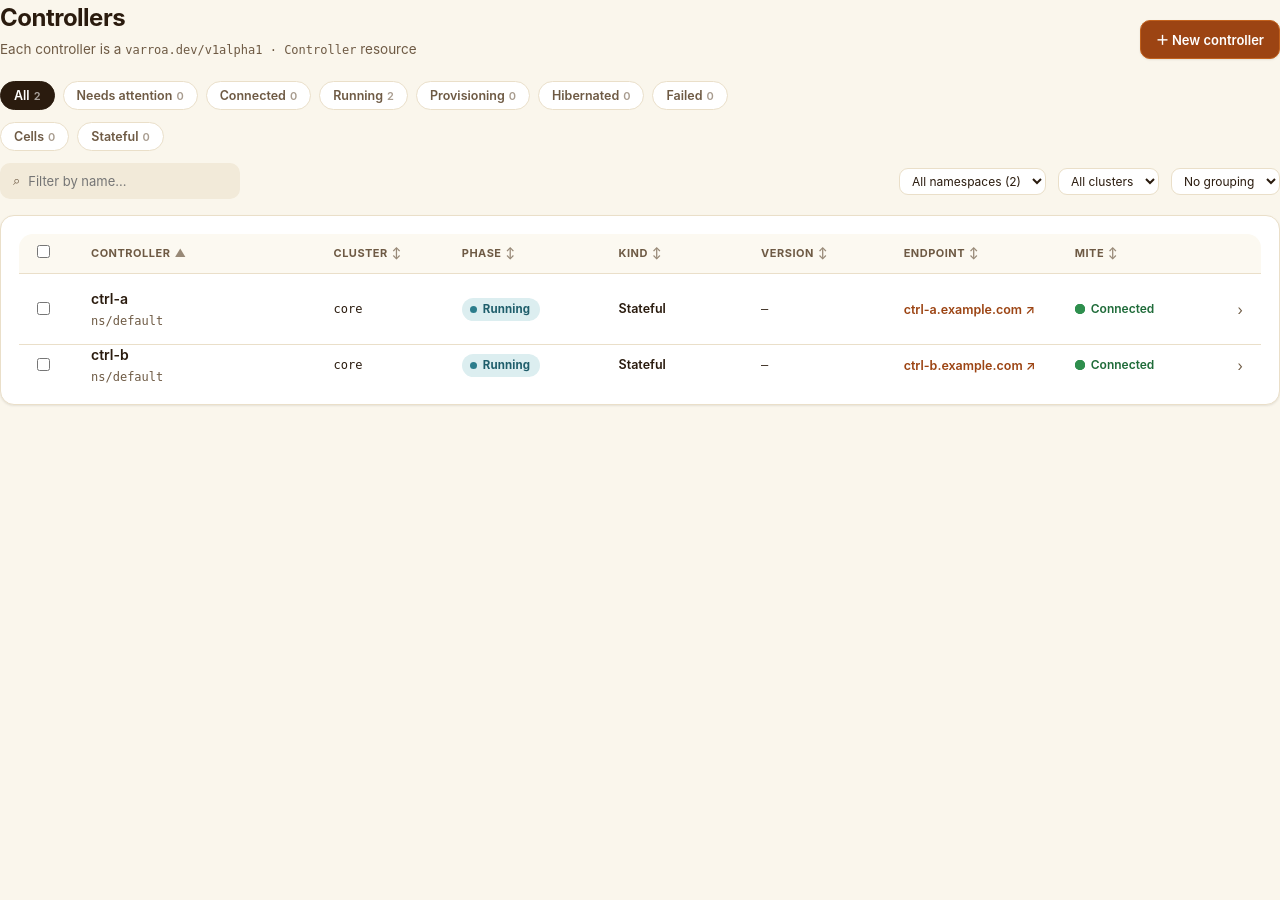
Test: Controllers › Run operation flow › creates the run and navigates to its detail page
Click the 2nd checkbox at x=44, y=308, box [37, 302, 50, 315]
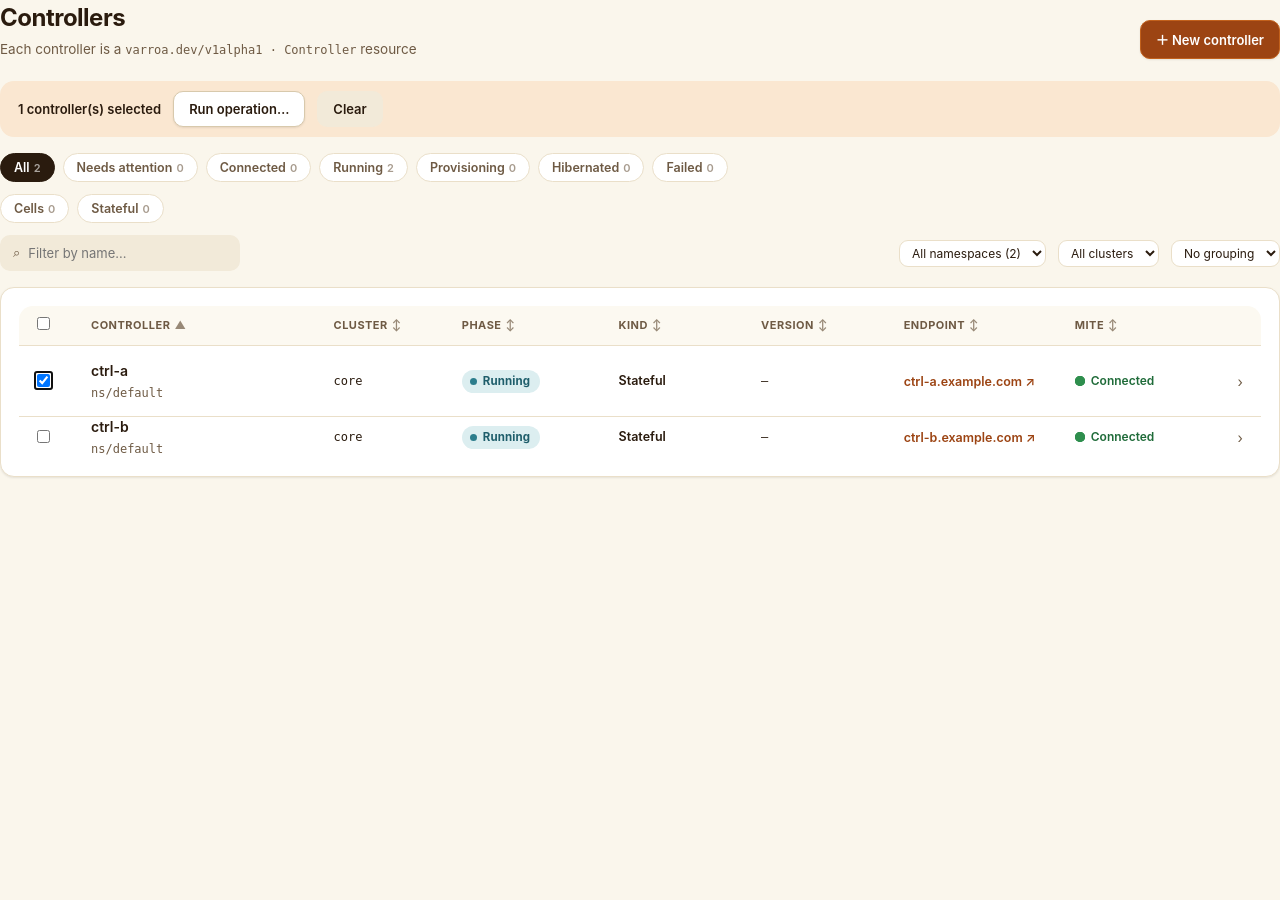
Click the 3rd checkbox at x=44, y=436, box [37, 430, 50, 443]
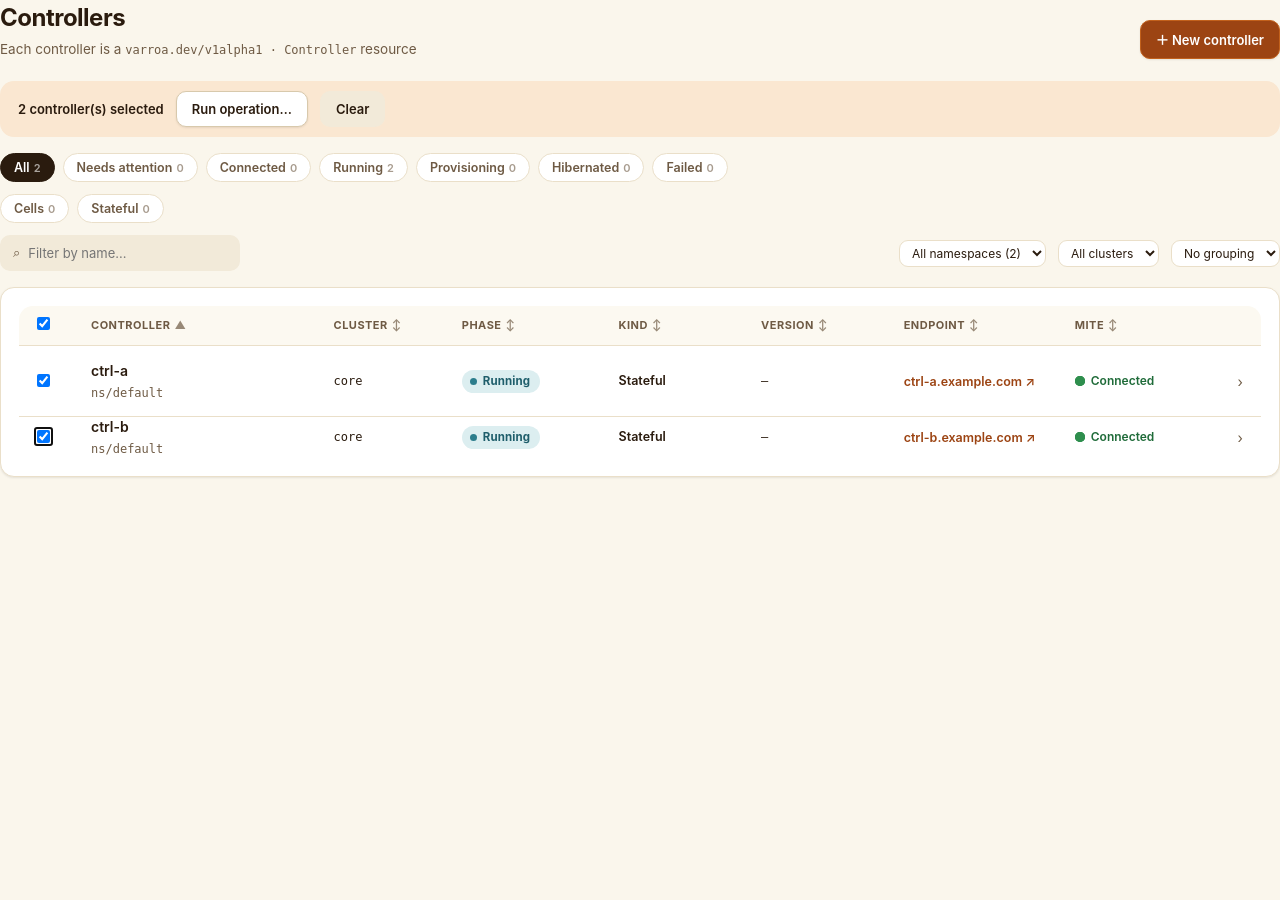
Click the button "Run operation…" at x=242, y=109, box [176, 91, 308, 127]
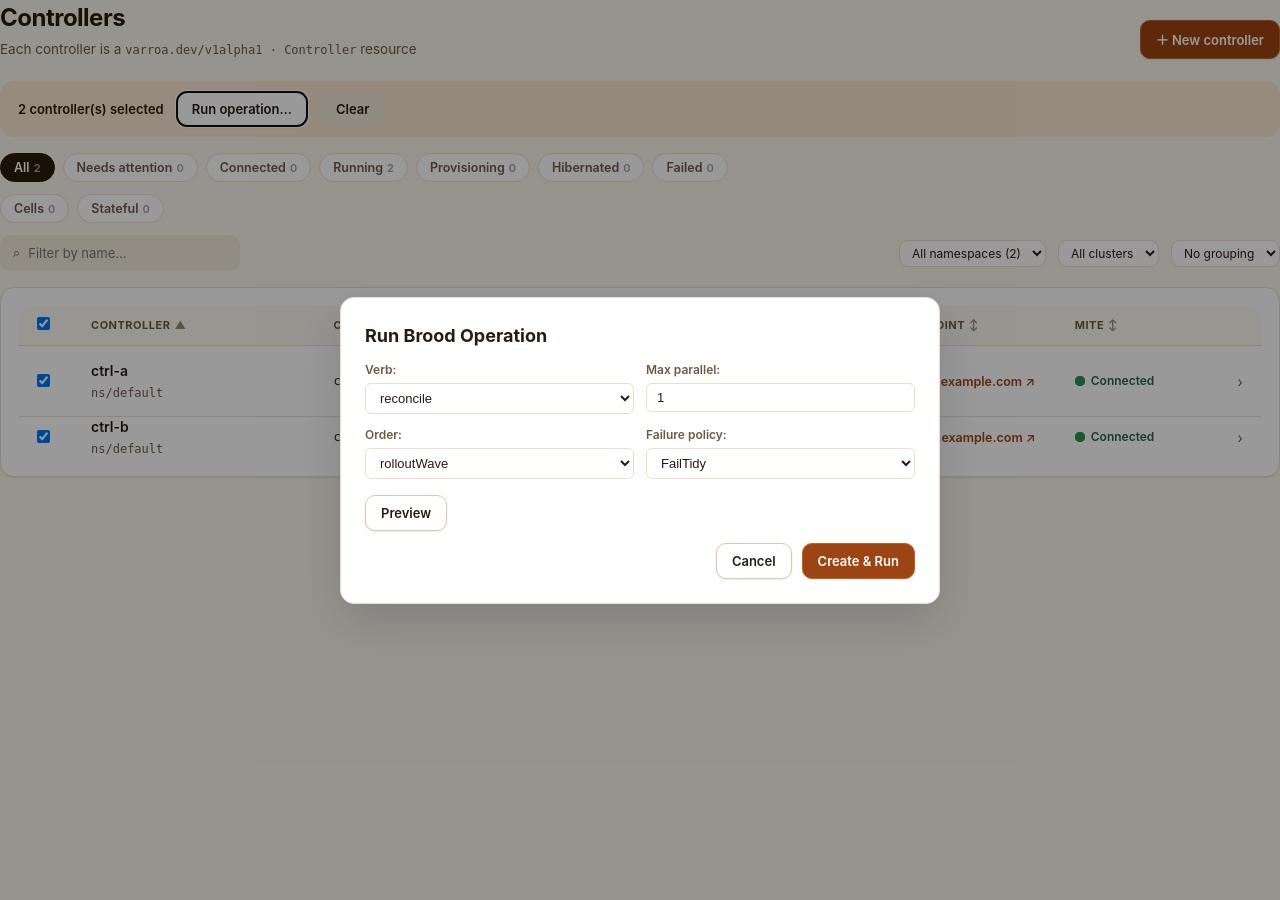
Click the button "Create & Run" at x=858, y=560, box [802, 542, 915, 578]
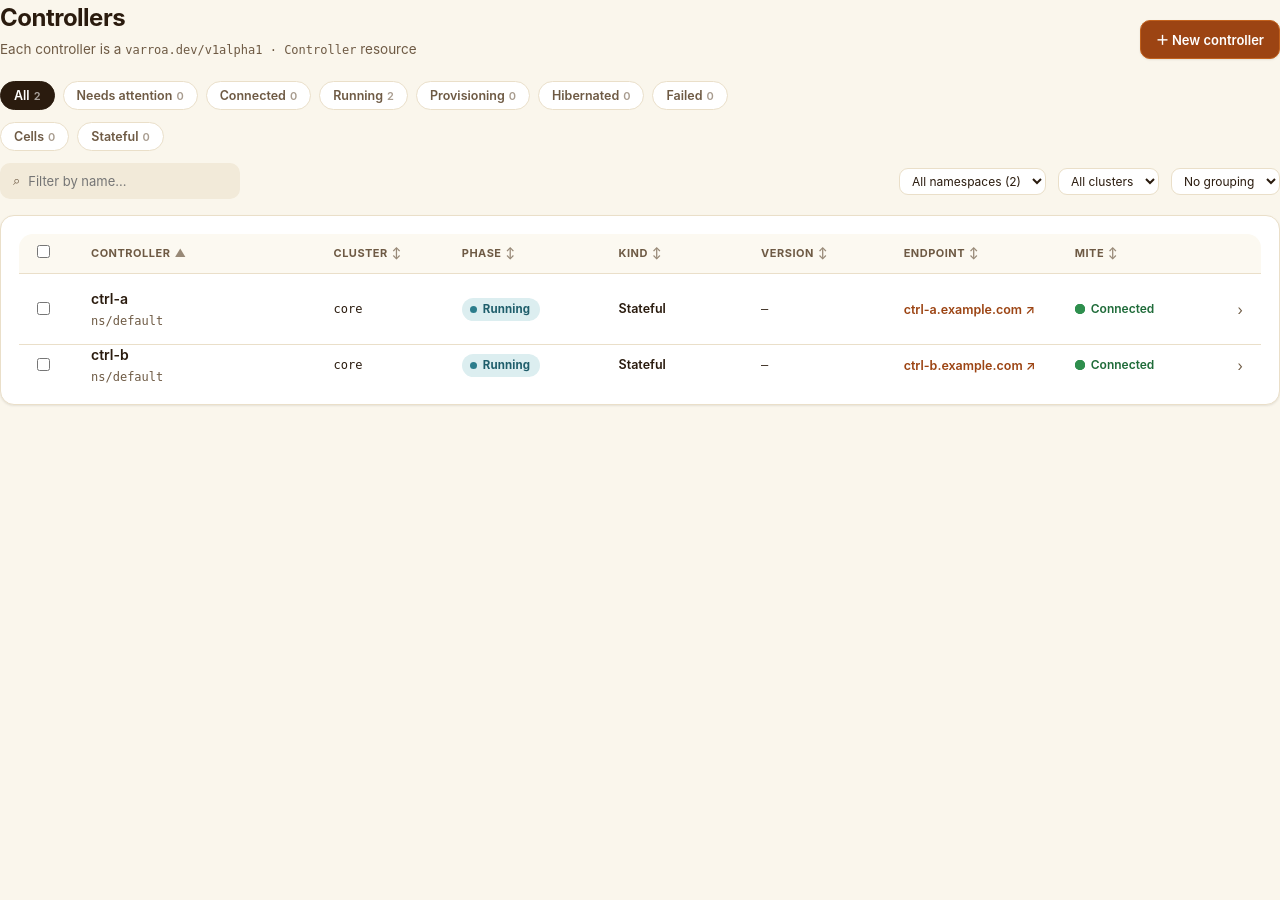
Check: the text "Run Brood Operation" is gone
Check: the button "Run operation…" is gone
